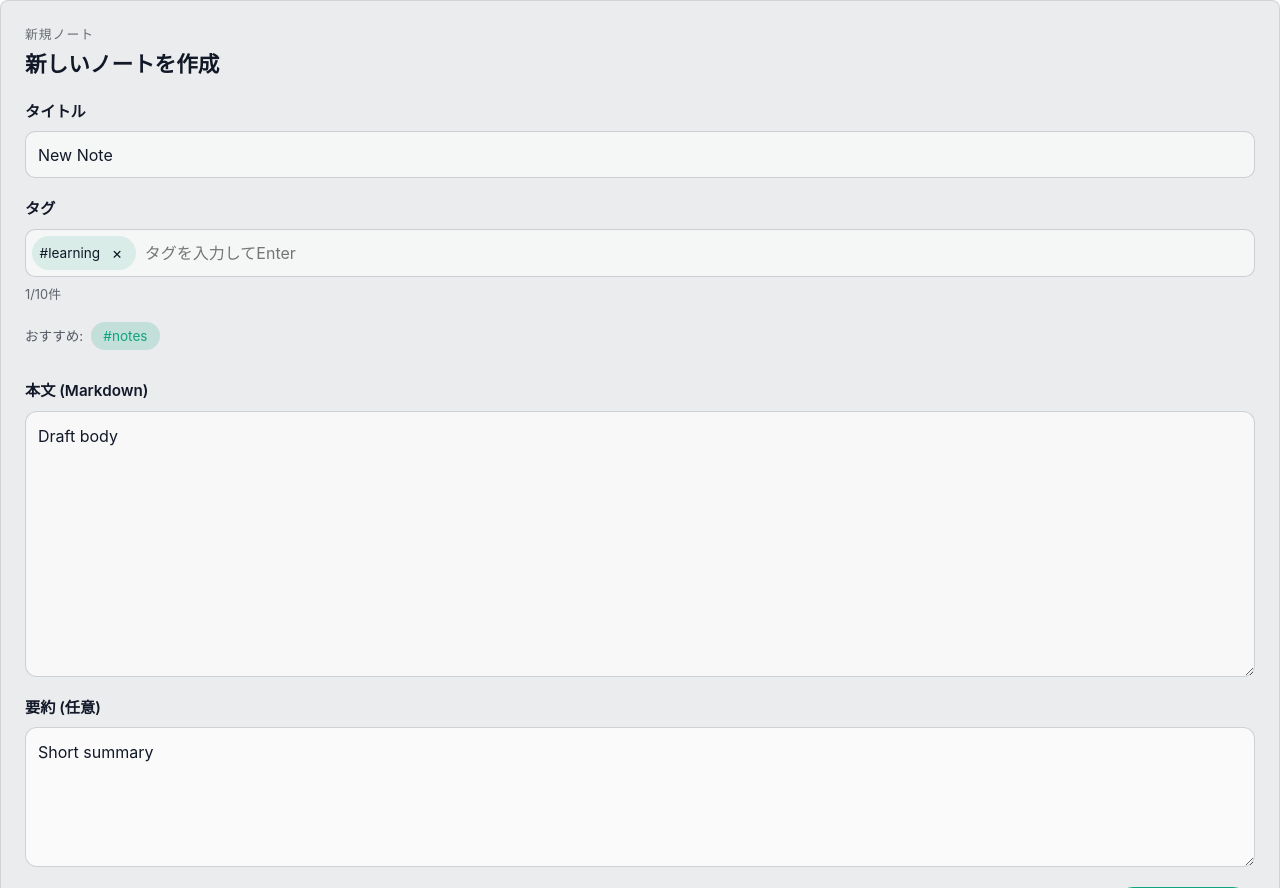
Test case: NoteEditor › does not apply tags while IME composition is active
Type "日本語" into the field with placeholder "タグを入力してEnter" at (696, 253), box [143,236,1248,270]
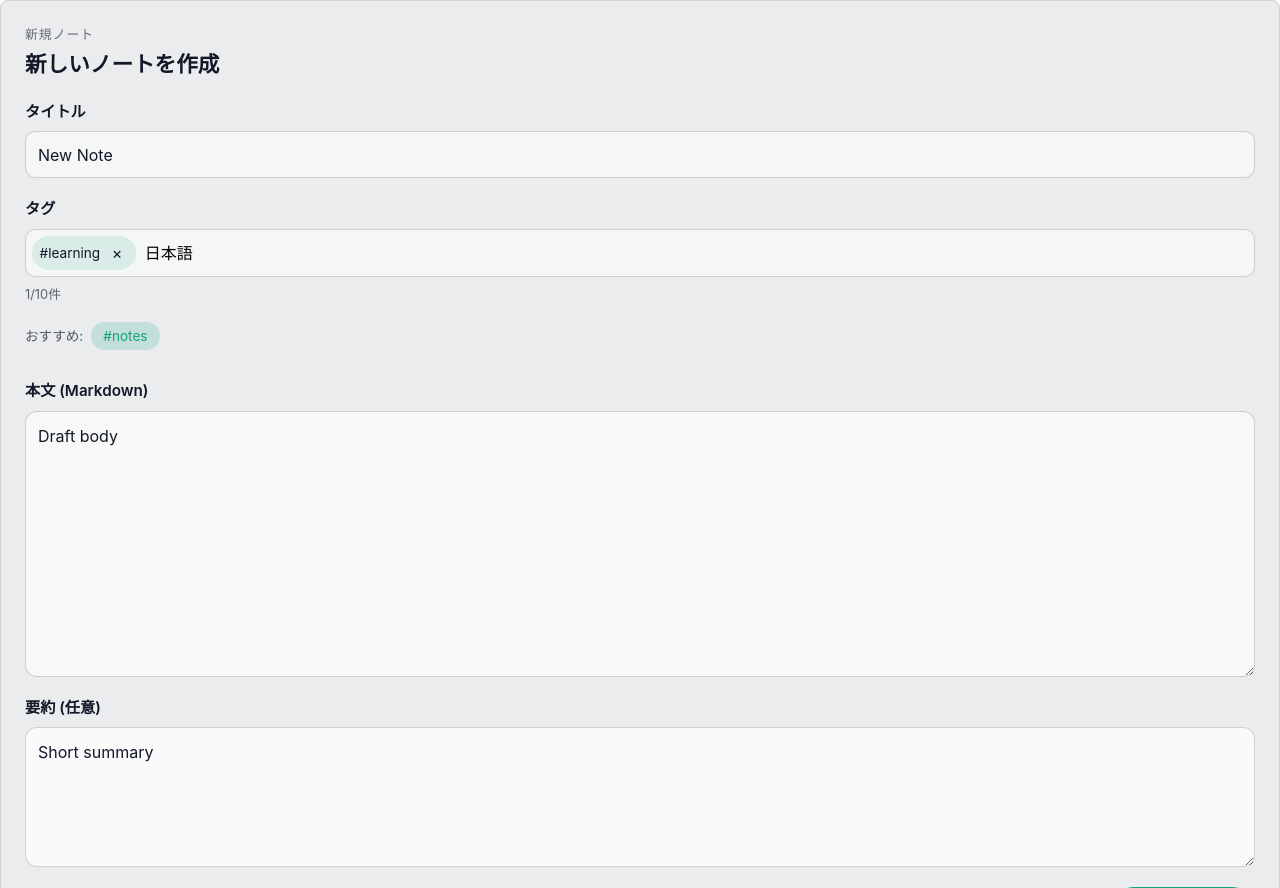
Press Enter in the field with placeholder "タグを入力してEnter", box [143,236,1248,270]
Expected: the text "#日本語" is not shown
Press Enter in the field with placeholder "タグを入力してEnter", box [143,236,1248,270]
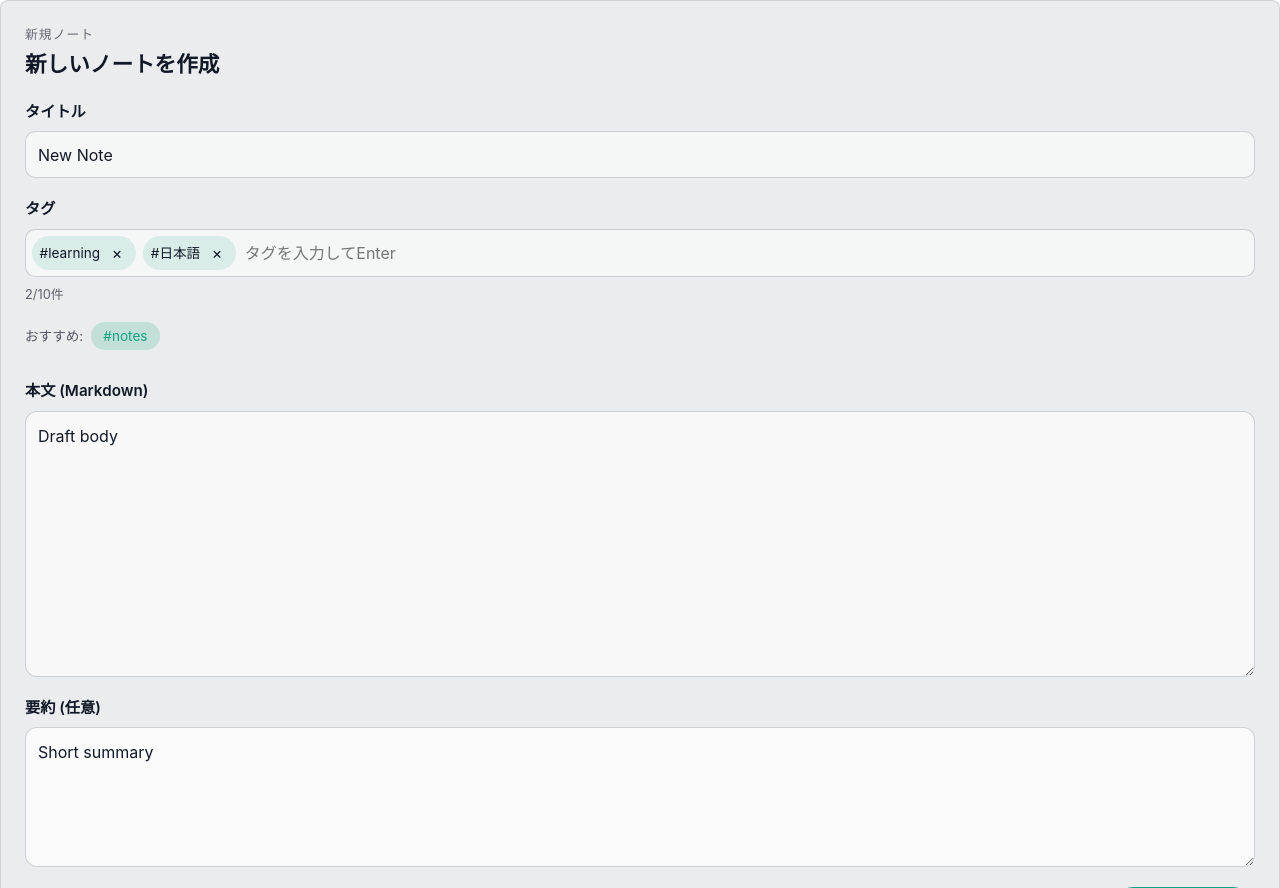
Result: the text "#日本語" is shown at [143,236,236,270]
